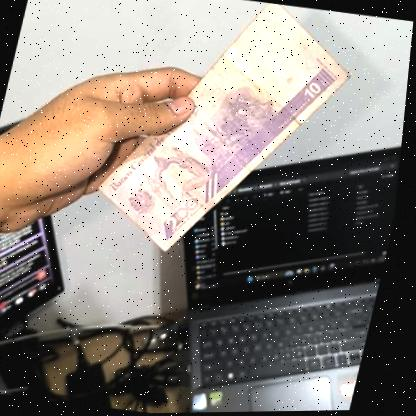vef_back: (84, 0, 366, 274)
